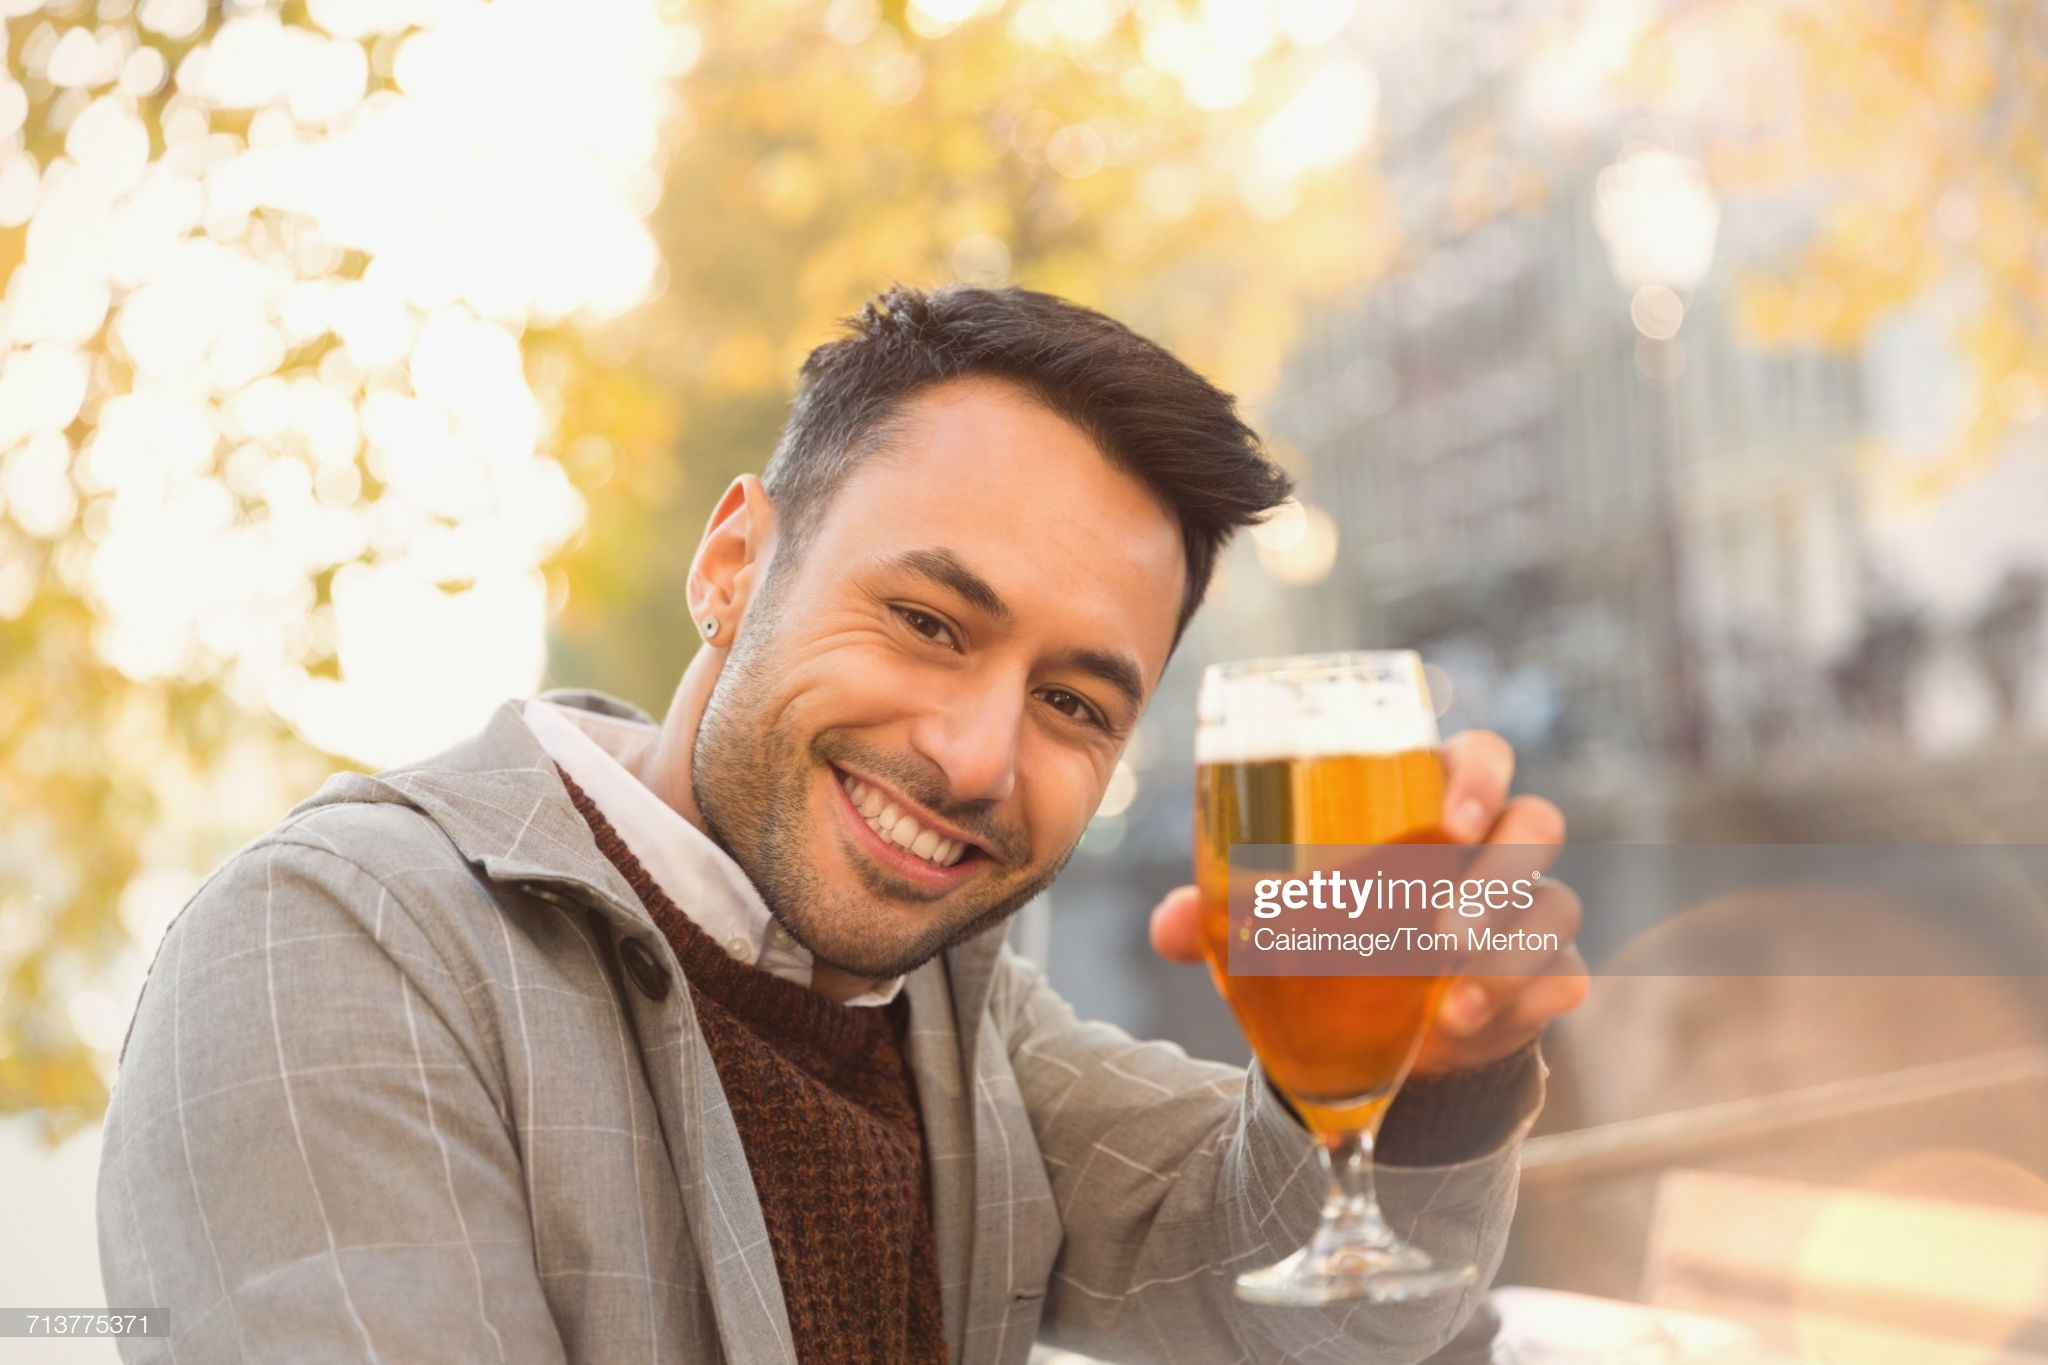glassBeer: (1182, 649, 1485, 1315)
